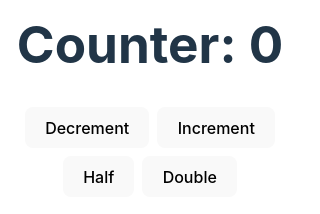
Component: Counter › should double the counter correctly
This screenshot has width=320, height=214.
Expected: the heading with test id "counter" reads "Counter: 0", [17,16,283,73]
Click the button with test id "increment-button".
click(216, 128)  # box [158,107,275,148]
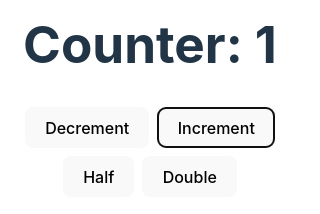
Click the button with test id "increment-button".
click(216, 128)  # box [158,107,275,148]
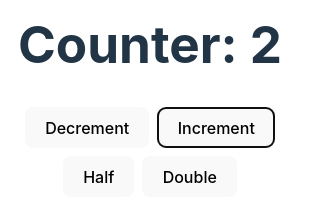
Expected: the heading with test id "counter" reads "Counter: 2", [18,16,282,73]
Click the button with test id "double-button".
click(190, 177)  # box [142,156,237,197]
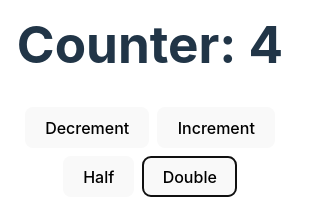
Expected: the heading with test id "counter" reads "Counter: 4", [17,16,283,73]
